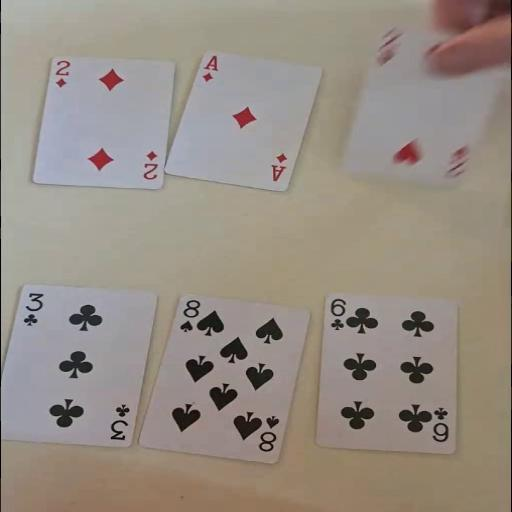2: (140, 148, 159, 180), (52, 58, 72, 88)
3: (20, 290, 46, 327), (107, 402, 131, 441)
6: (328, 296, 348, 332), (430, 406, 450, 442)
8: (256, 414, 282, 452), (176, 298, 202, 333)
A: (268, 151, 288, 183), (199, 54, 219, 82)
